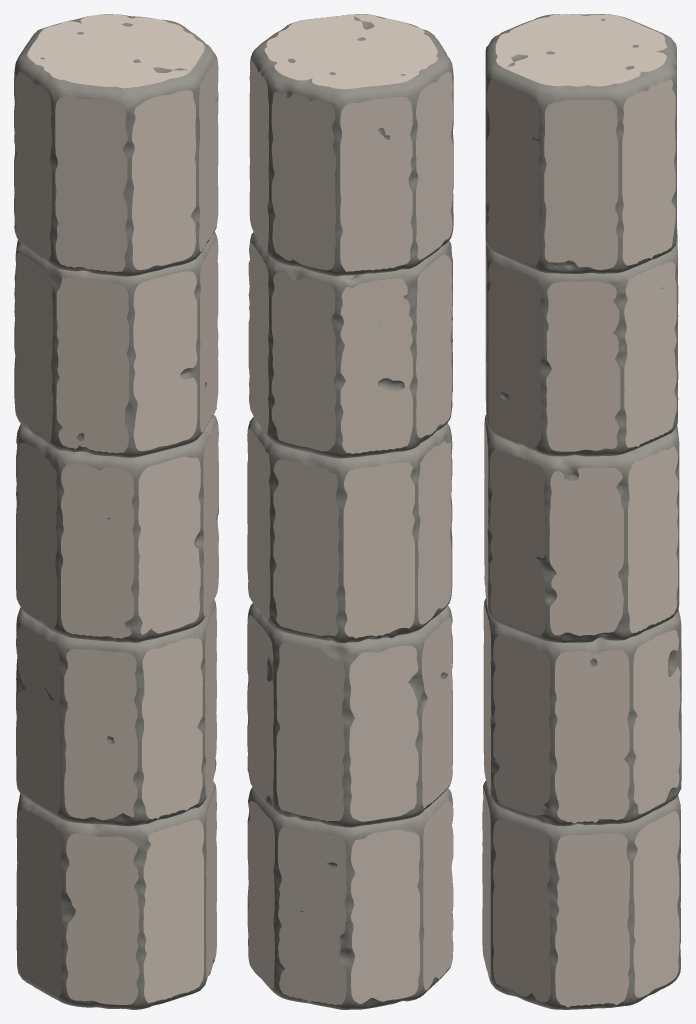
File: pipe.glb
3 views of the same model, side by side, from view 1: azimuth 30°, elevation 25°; view 2: azimuth 150°, elevation 25°; view 3: azimuth 270°, elevation 25° (orthographic).
Parts seen in each view (by area): view 1: Cylinder.001_dmg, Cylinder.003_dmg, Cylinder.002_dmg, Cylinder.005_dmg, Cylinder.004_dmg; view 2: Cylinder.001_dmg, Cylinder.003_dmg, Cylinder.004_dmg, Cylinder.005_dmg, Cylinder.002_dmg; view 3: Cylinder.001_dmg, Cylinder.005_dmg, Cylinder.004_dmg, Cylinder.003_dmg, Cylinder.002_dmg.
Boxes of the visible parts, box(x1,y1,x2,y2) form: Cylinder.001_dmg: box(14, 14, 218, 276); Cylinder.003_dmg: box(16, 414, 218, 642); Cylinder.002_dmg: box(14, 232, 218, 457); Cylinder.005_dmg: box(16, 781, 216, 1009); Cylinder.004_dmg: box(16, 600, 216, 826); Cylinder.001_dmg: box(249, 14, 453, 276); Cylinder.003_dmg: box(247, 417, 452, 643); Cylinder.004_dmg: box(247, 603, 452, 827); Cylinder.005_dmg: box(247, 787, 453, 1009); Cylinder.002_dmg: box(248, 232, 452, 458); Cylinder.001_dmg: box(485, 14, 676, 273); Cylinder.005_dmg: box(482, 780, 680, 1009); Cylinder.004_dmg: box(483, 598, 681, 826); Cylinder.003_dmg: box(484, 414, 679, 642); Cylinder.002_dmg: box(485, 229, 678, 456).
Size of the model in its own units: 1.92 by 9.82 by 1.92.
